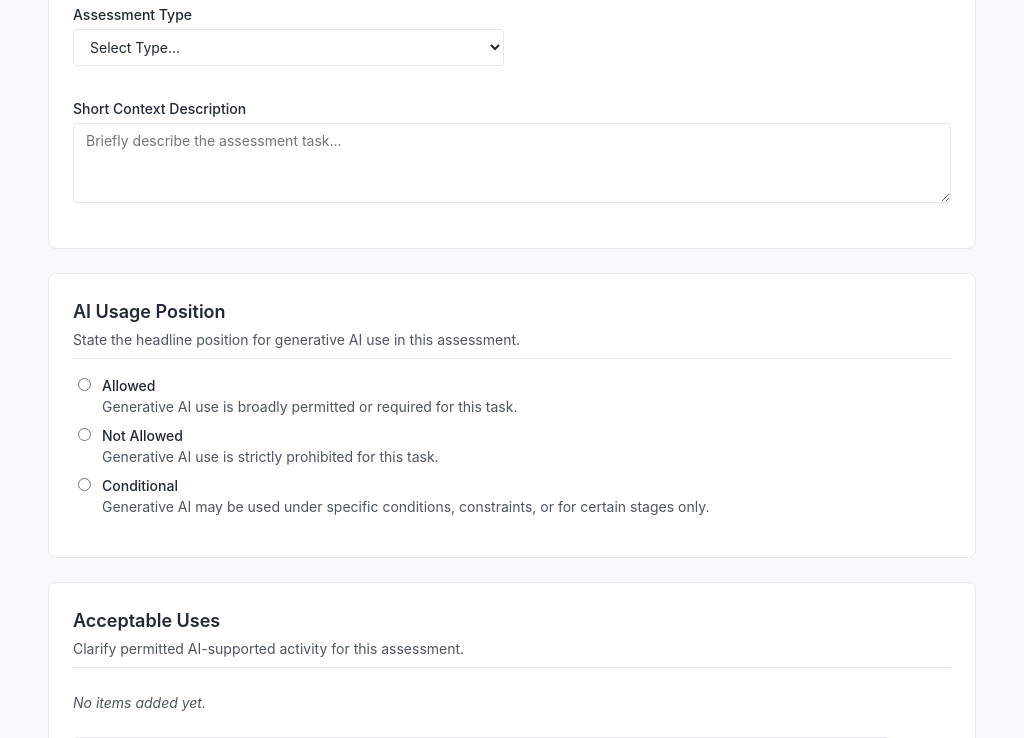
it: App End-to-End Workflow & Regression Suite › allows selecting AI usage positions (allowed, not_allowed, conditional)
(page scrolled)
Select Allowed
Click the radio button showing "allowed" at (84, 385), box [78,378,91,391]
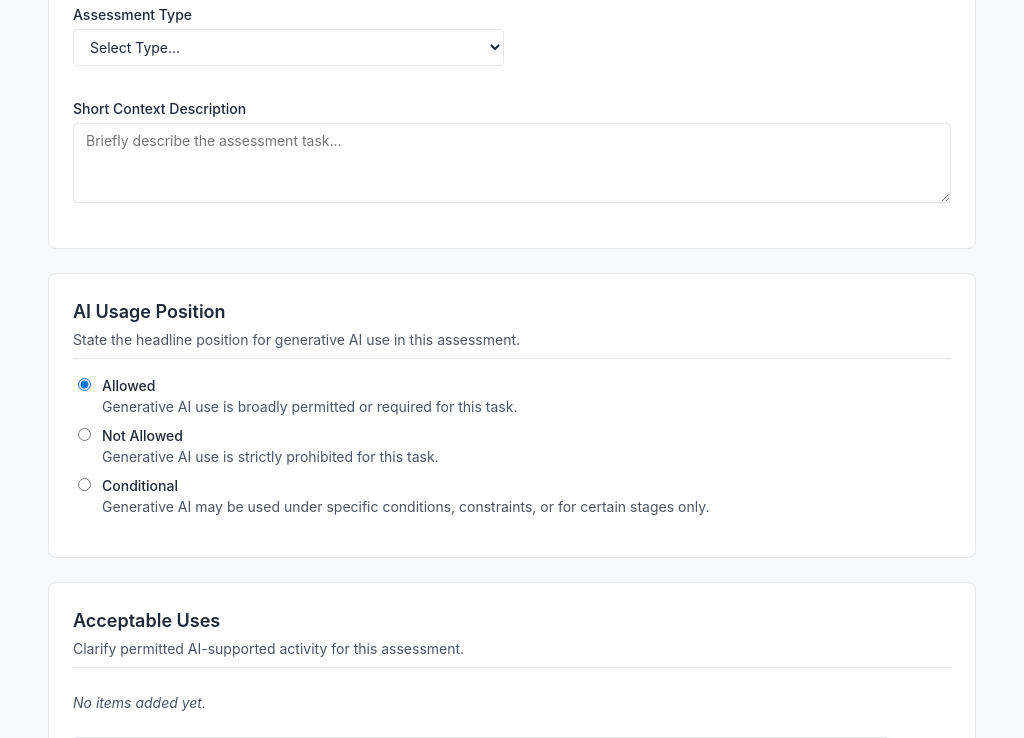
Expected: the radio button showing "allowed" is checked, [78,378,91,391]
Select Conditional
Click the radio button showing "conditional" at (84, 485), box [78,478,91,491]
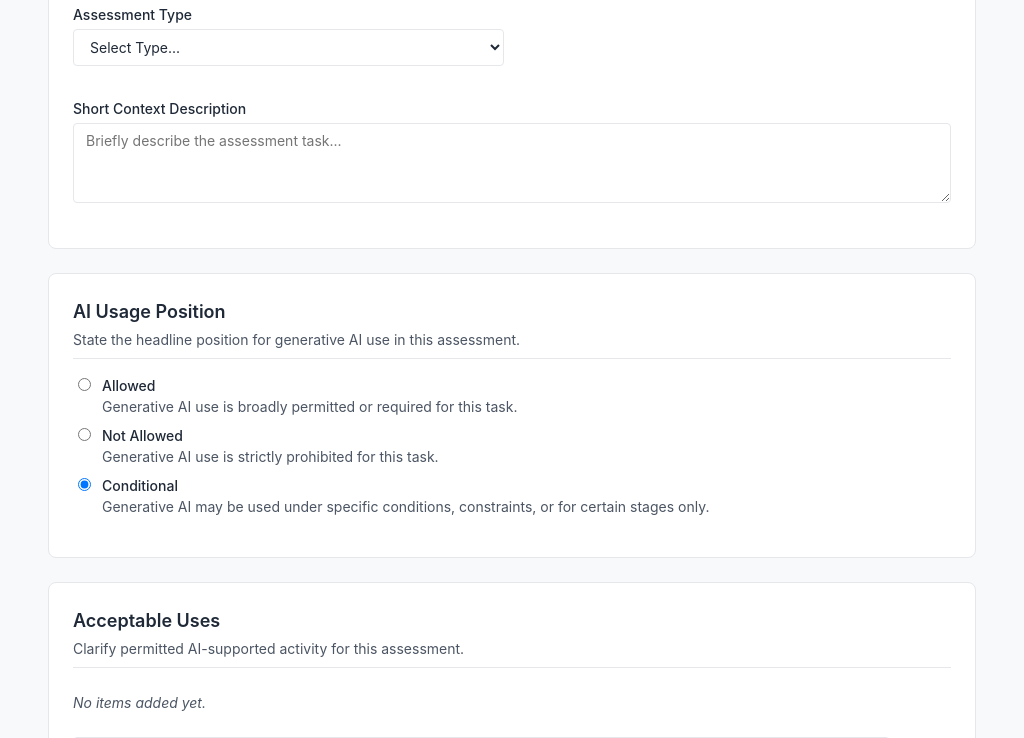
Expected: the radio button showing "conditional" is checked, [78,478,91,491]
Expected: the radio button showing "allowed" is not checked, [78,378,91,391]
Select Not Allowed
Click the radio button showing "not_allowed" at (84, 435), box [78,428,91,441]
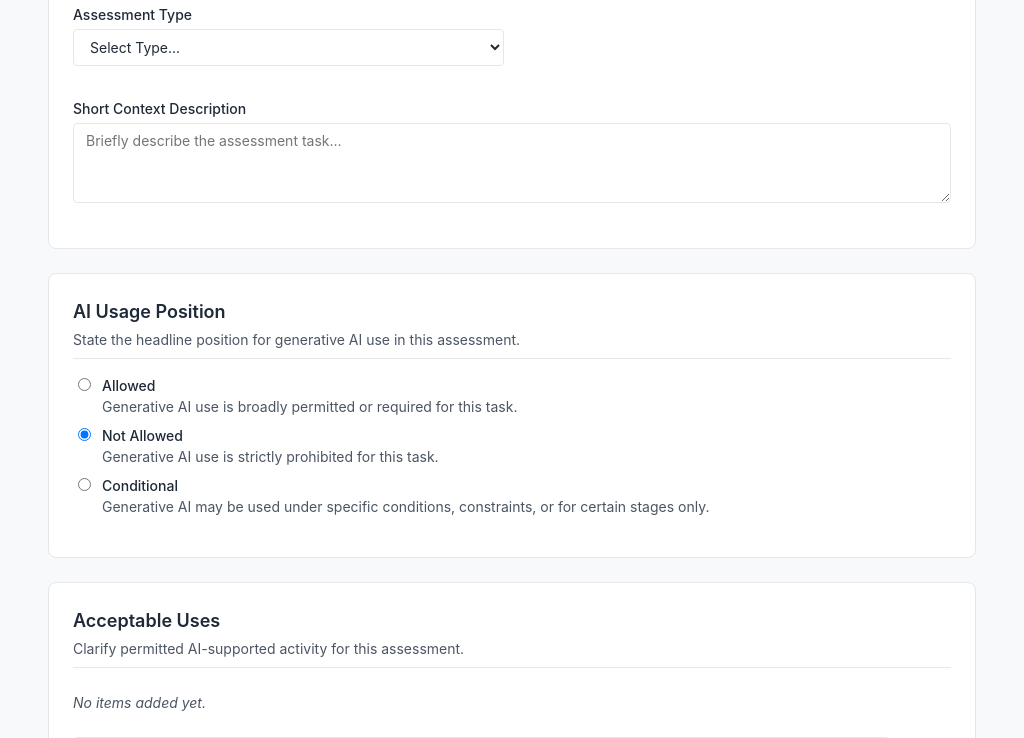
Expected: the radio button showing "not_allowed" is checked, [78,428,91,441]
